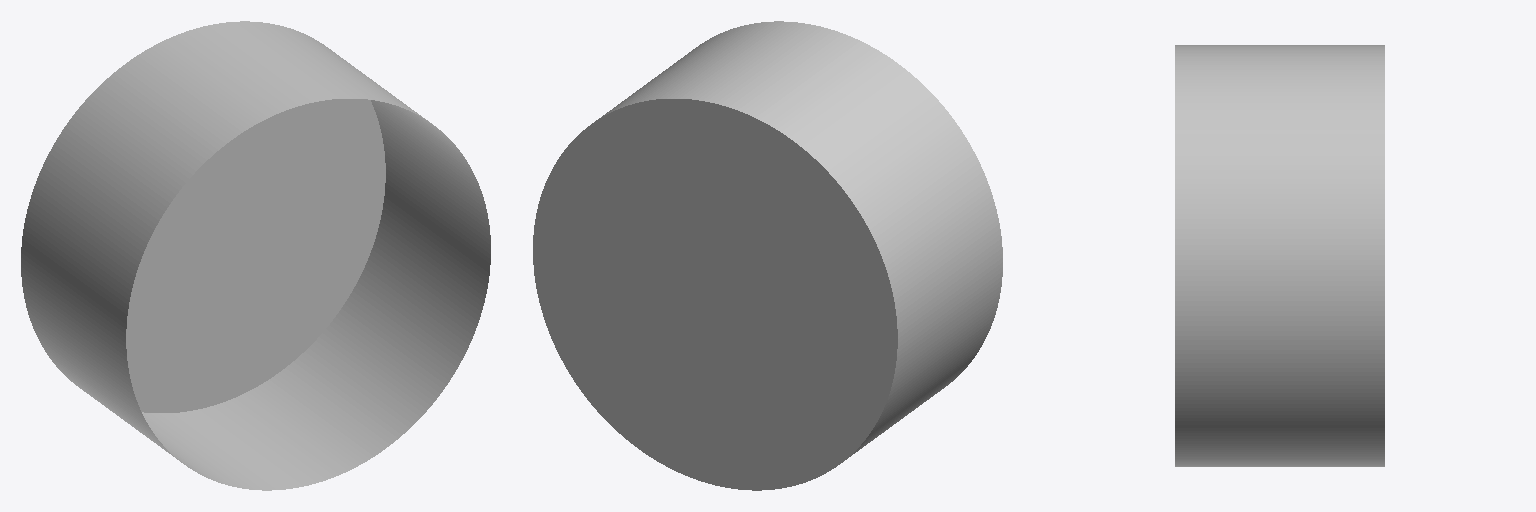
Rendered from outer_cylinder.obj.
The picture shows the model from 3 angles: view 1: azimuth 30°, elevation 25°; view 2: azimuth 150°, elevation 25°; view 3: azimuth 270°, elevation 25°; orthographic projection.
Visible parts, largest first — view 1: Cylinder_Cylinder.001; view 2: Cylinder_Cylinder.001; view 3: Cylinder_Cylinder.001.
Boxes of the visible parts, box(x1,y1,x2,y2) form: Cylinder_Cylinder.001: box(21, 21, 490, 490); Cylinder_Cylinder.001: box(533, 21, 1002, 490); Cylinder_Cylinder.001: box(1175, 45, 1384, 466).
Bounding box in the file's own units: 2 × 2 × 1.